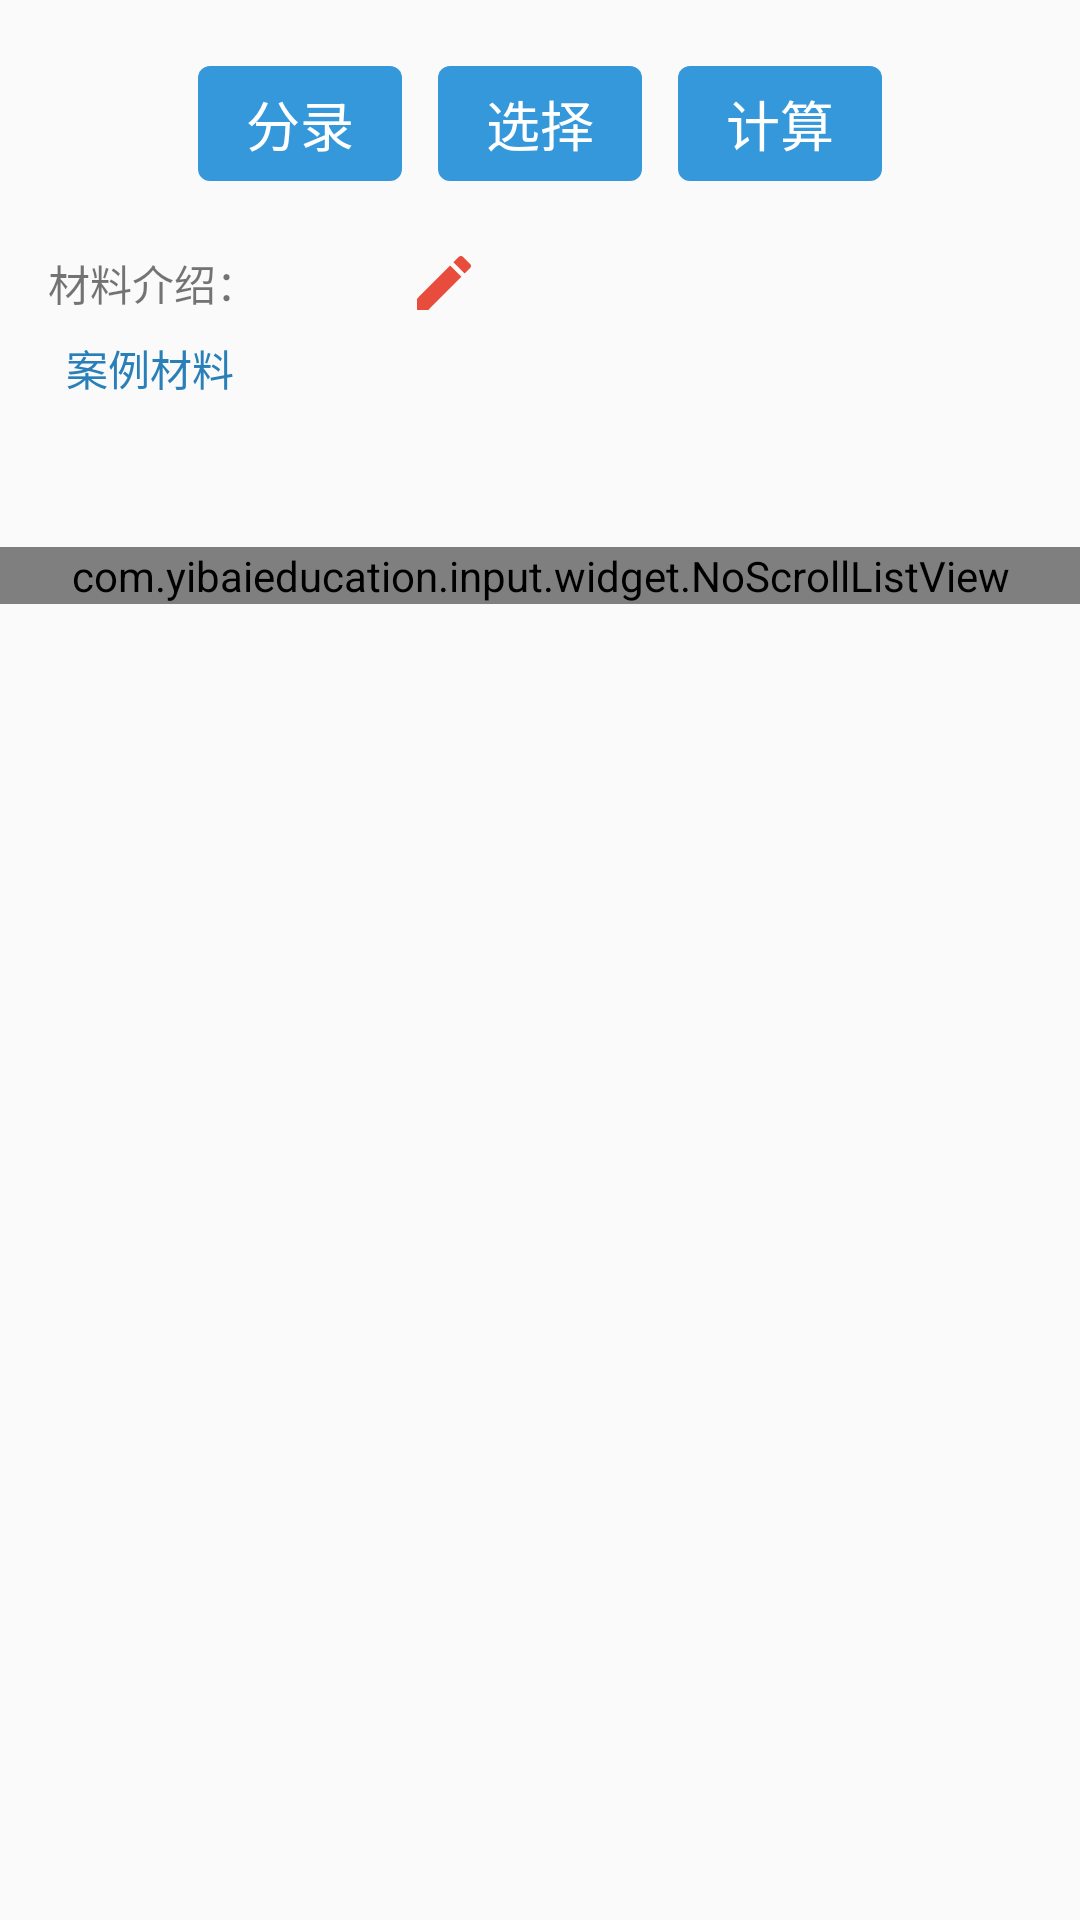

Icons on this 1080px x 1920px Android screen, each with its box as (x1, y1, x2, y2):
edit: (417, 256, 471, 310)
